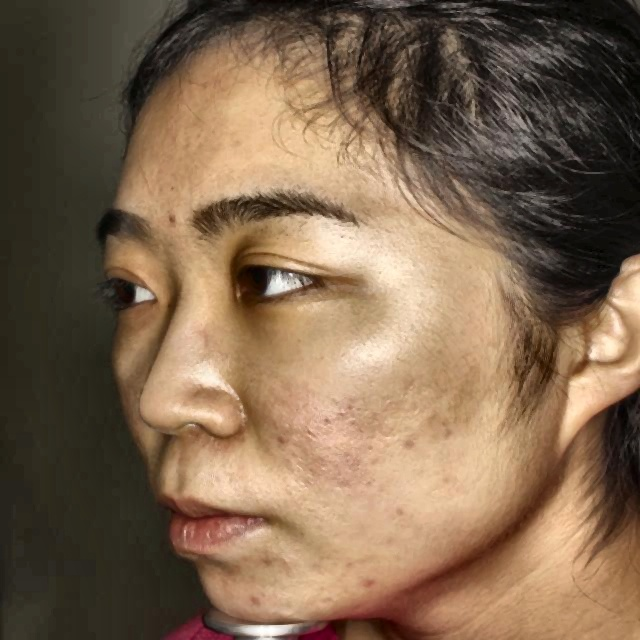comedone: (245, 593, 268, 614), (168, 206, 182, 226), (363, 577, 380, 587)
